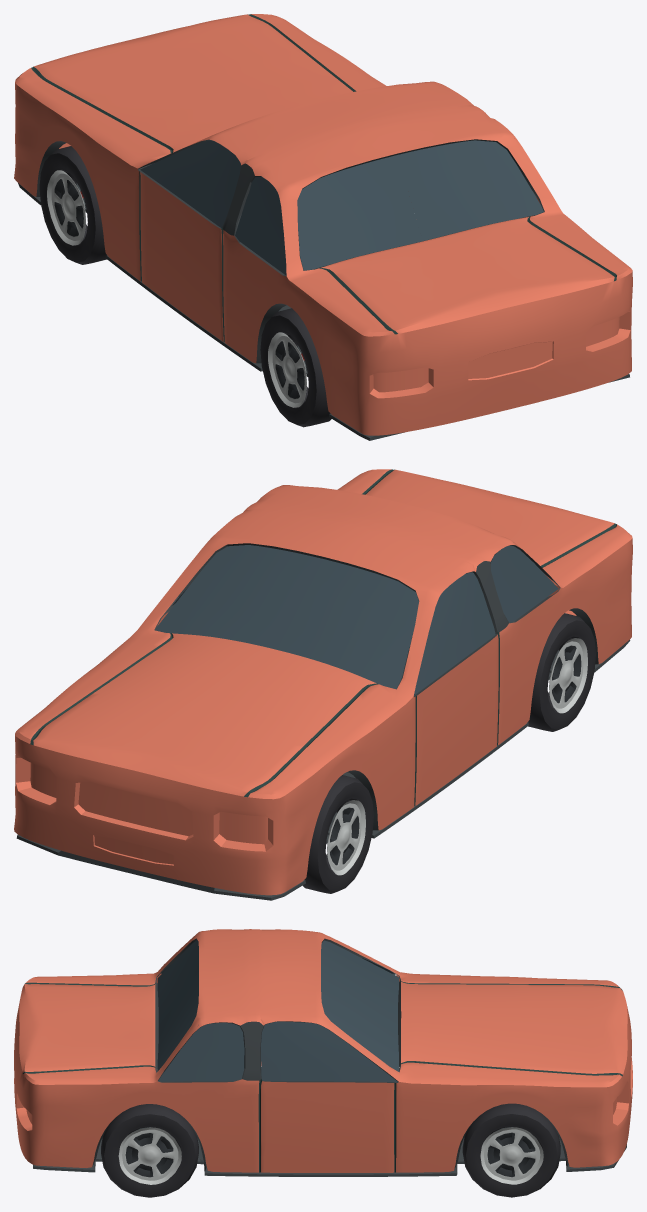
Rendered from forge_closed_defaults_lod2.fbx.
The picture shows the model from 3 angles, top to bottom: view 1: azimuth 30°, elevation 25°; view 2: azimuth 150°, elevation 25°; view 3: azimuth 270°, elevation 25°; orthographic projection. The views are drawn at different scales.
Visible parts, largest first — view 1: Body, Wheel_RL_Mesh, Wheel_FL_Mesh; view 2: Body, Wheel_FL_Mesh, Wheel_RL_Mesh; view 3: Body, Wheel_FR_Mesh, Wheel_RR_Mesh.
Boxes of the visible parts, left/top/right/bottom form: Body: left=14, top=14, right=632, bottom=440; Wheel_RL_Mesh: left=260, top=308, right=331, bottom=427; Wheel_FL_Mesh: left=39, top=146, right=106, bottom=264; Body: left=14, top=469, right=632, bottom=900; Wheel_FL_Mesh: left=302, top=775, right=373, bottom=893; Wheel_RL_Mesh: left=528, top=613, right=595, bottom=731; Body: left=14, top=929, right=632, bottom=1176; Wheel_FR_Mesh: left=462, top=1103, right=560, bottom=1197; Wheel_RR_Mesh: left=101, top=1104, right=198, bottom=1197.
Size of the model in its own units: 153 by 114 by 357.
